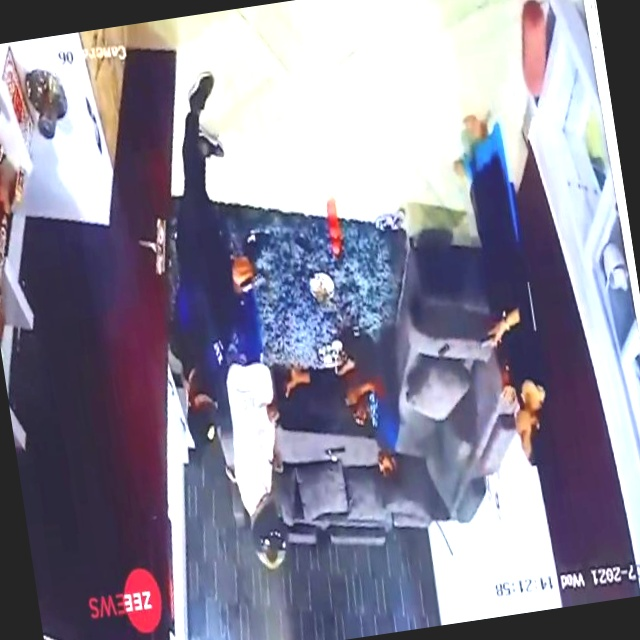gun: (235, 263, 268, 299)
